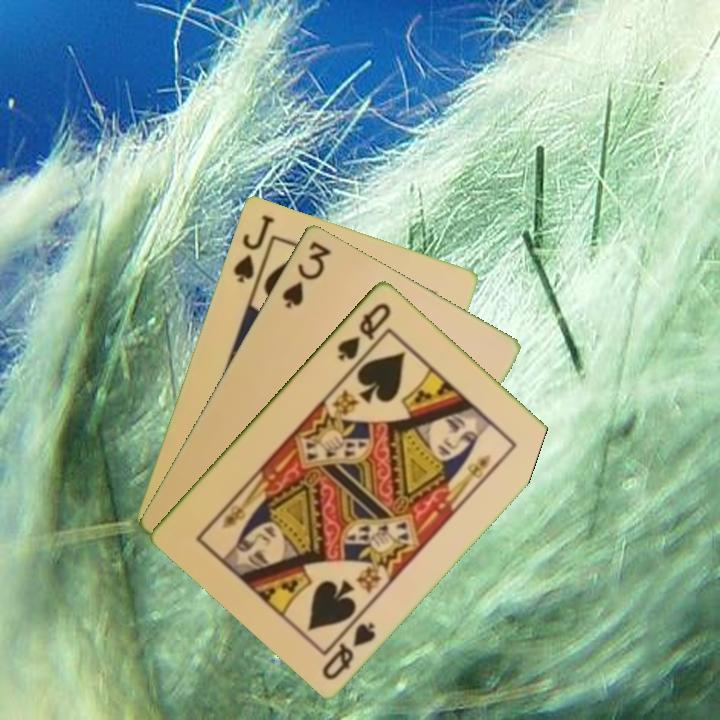3s: (278, 237, 335, 311)
Js: (229, 211, 277, 286)
Qs: (318, 608, 379, 683), (333, 298, 394, 363)
